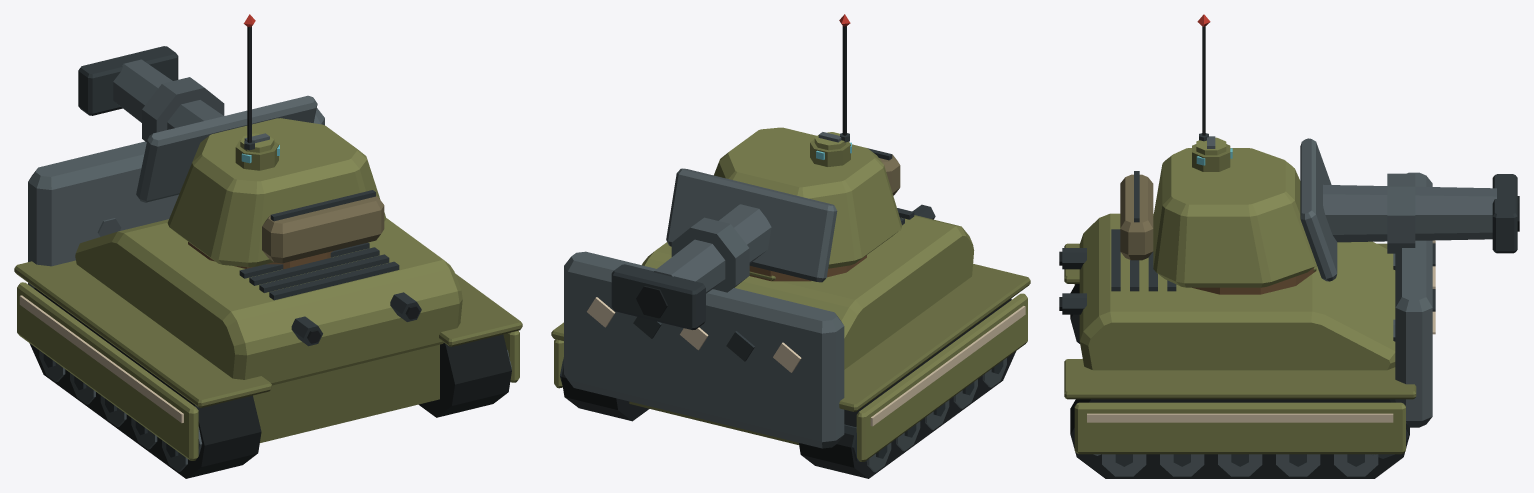
3 renders of one model, left to right at view 1: azimuth 30°, elevation 25°; view 2: azimuth 150°, elevation 25°; view 3: azimuth 270°, elevation 25°, orthographic. The views are drawn at different scales.
Visible parts, largest first — view 1: hull_10, turret_10; view 2: hull_10, turret_10; view 3: hull_10, turret_10.
Boxes of the visible parts, x1,y1,x2,y2 form: hull_10: [14, 108, 522, 478]; turret_10: [78, 14, 386, 269]; hull_10: [551, 204, 1030, 478]; turret_10: [611, 14, 901, 329]; hull_10: [1059, 172, 1435, 478]; turret_10: [1120, 14, 1519, 294].
Bounding box in the file's own units: 0.884 × 1 × 1.11.
